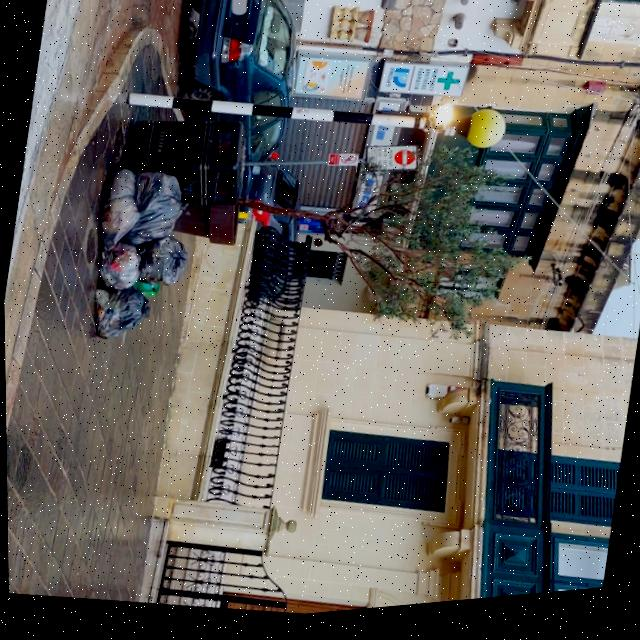Mixed Waste -Black Bag-: (117, 168, 197, 256), (95, 168, 146, 259), (85, 286, 153, 350), (133, 234, 191, 295), (94, 240, 144, 298)
Other: (131, 283, 159, 303)
